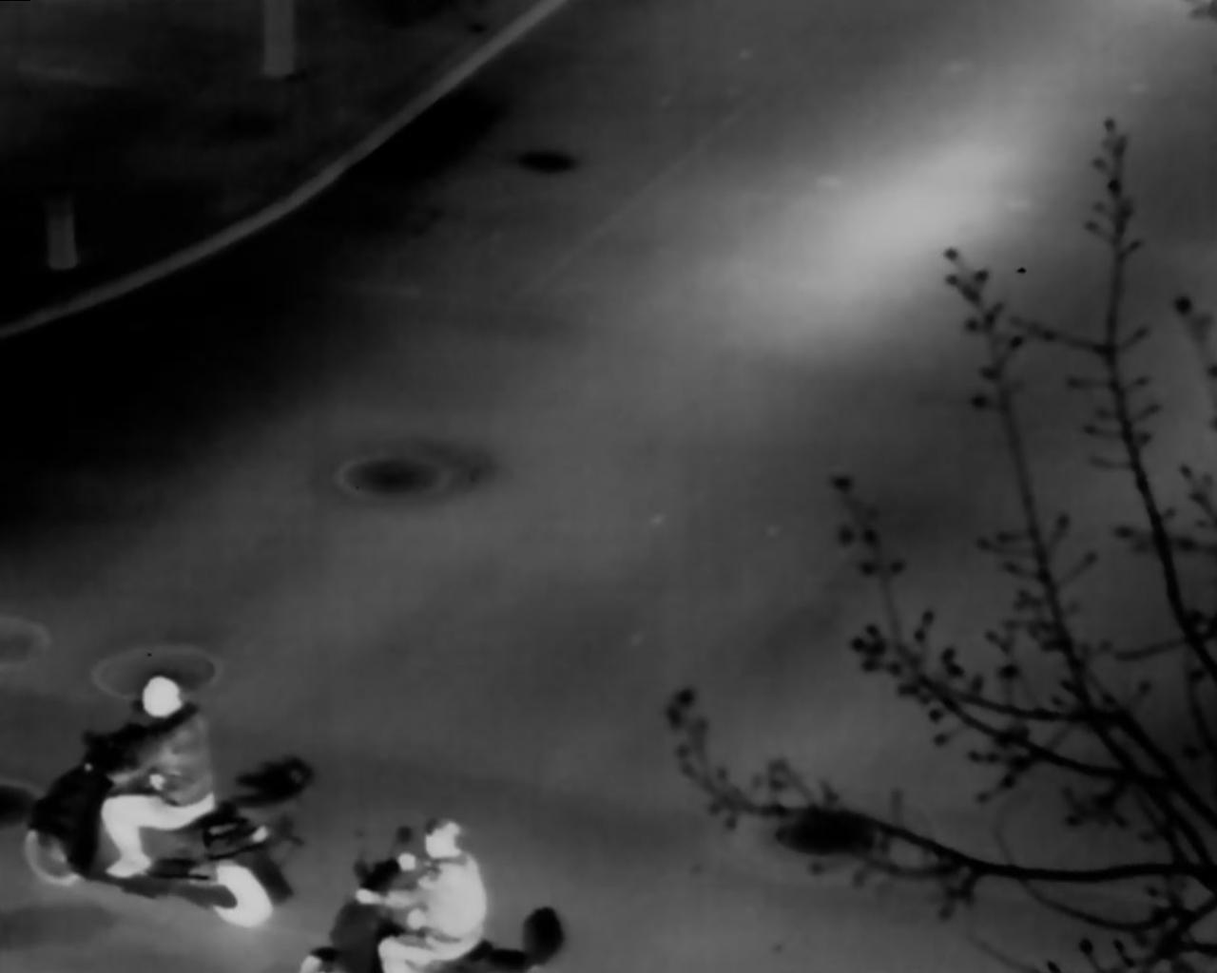person: (98, 676, 215, 880), (354, 817, 489, 973)
